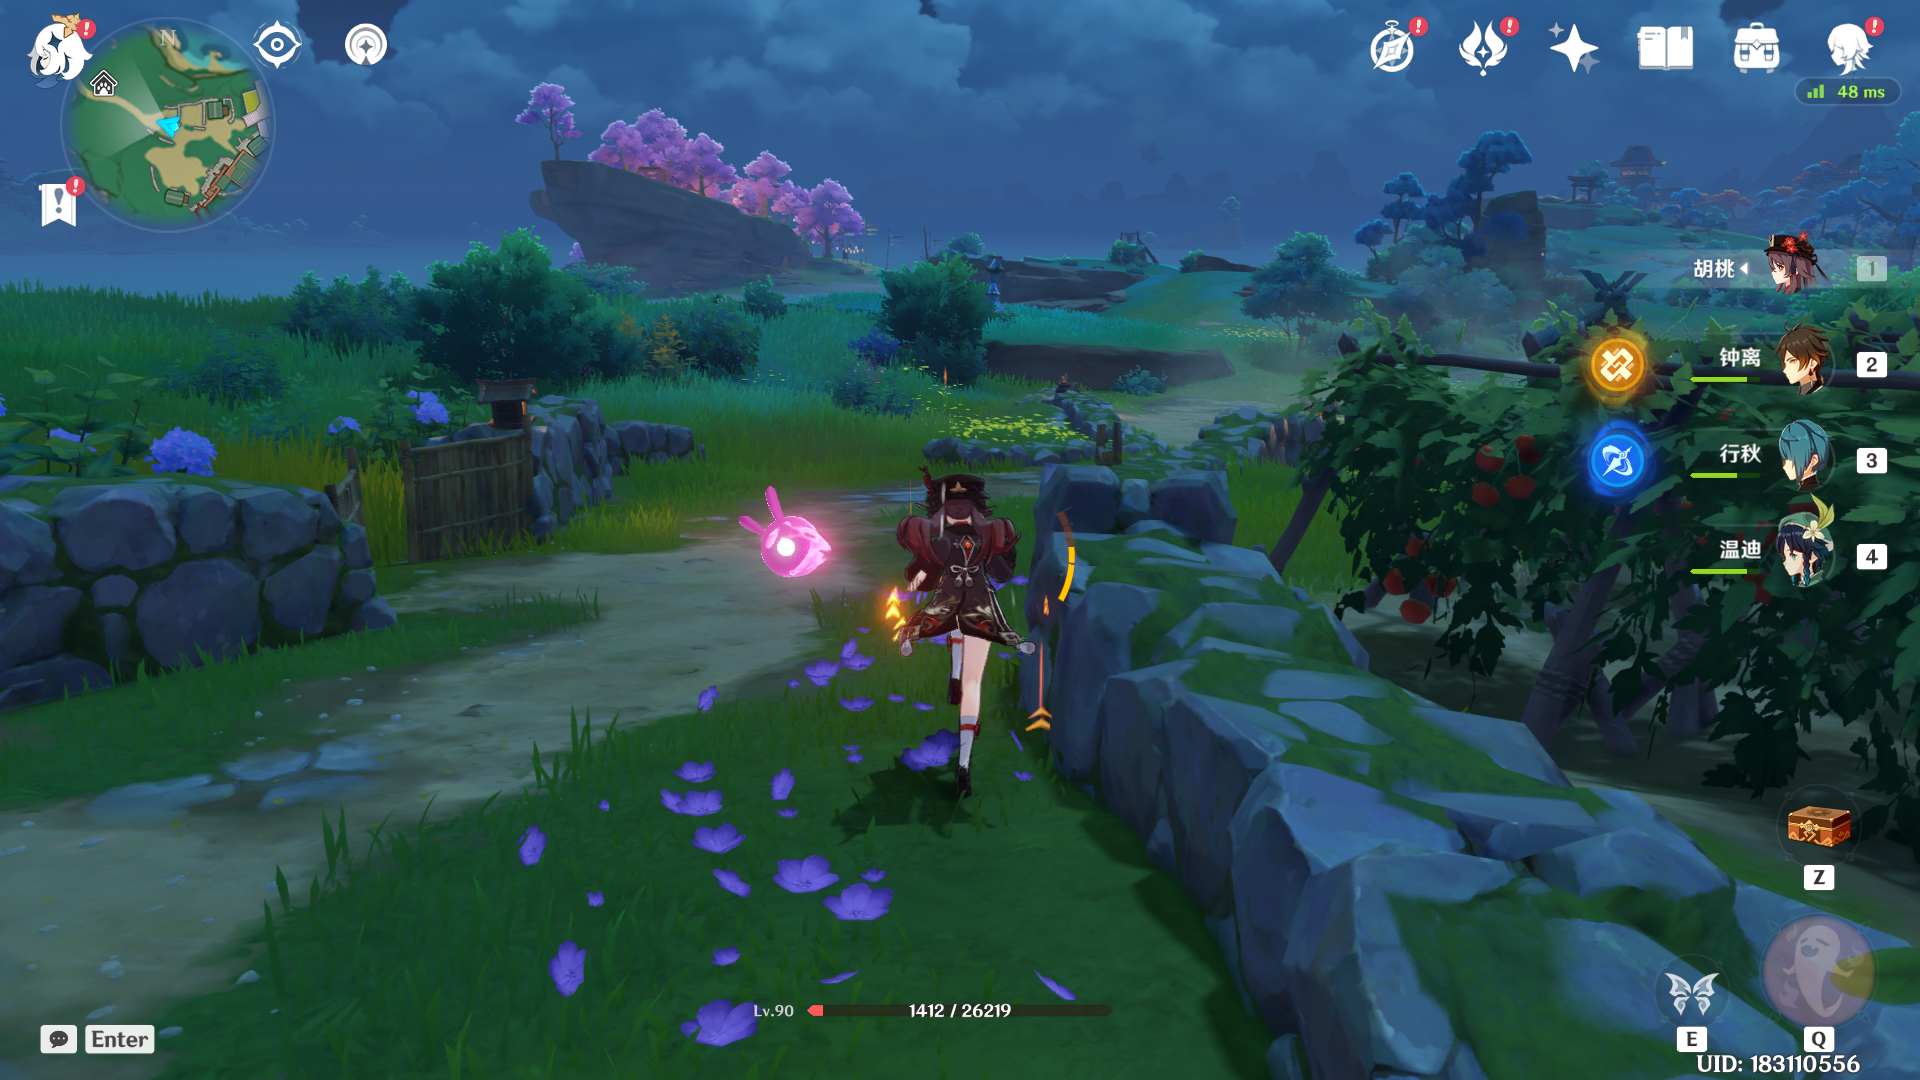character: (855, 434, 1087, 808)
